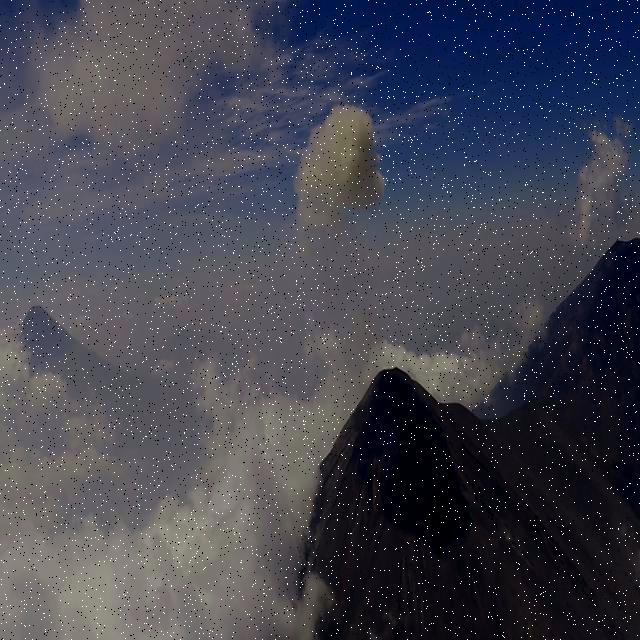Plume: (284, 96, 386, 240)
Summit: (299, 360, 492, 505)
